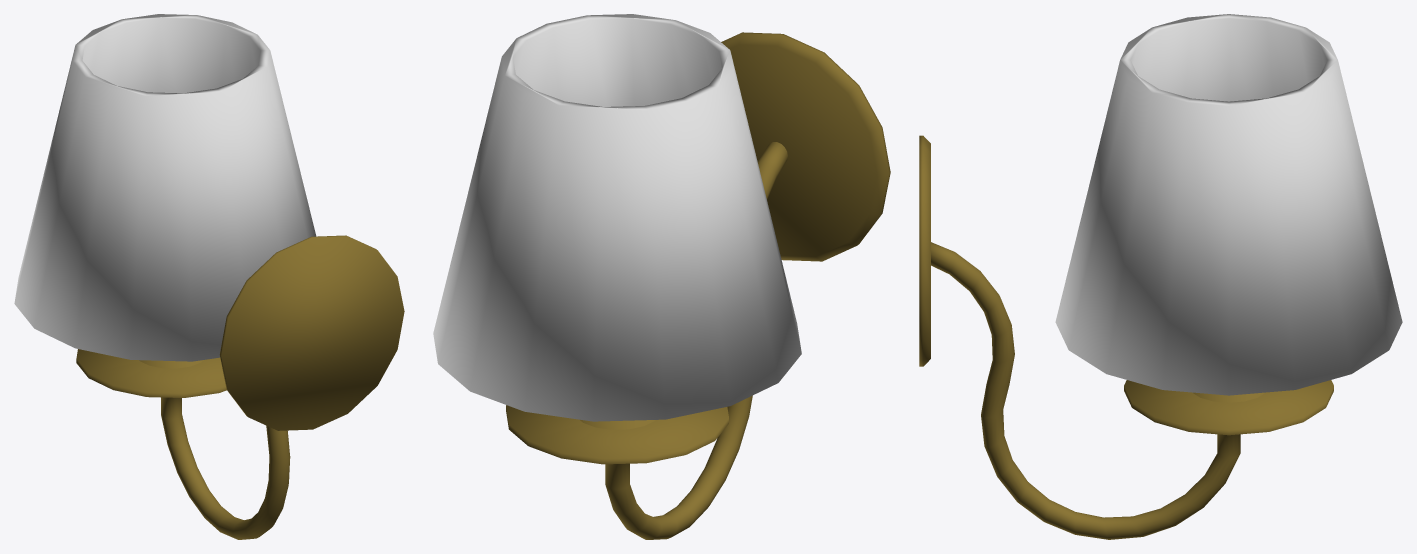
The model's file is L2_F1_WallLamp.fbx.
3 renders of one model, left to right at view 1: azimuth 30°, elevation 25°; view 2: azimuth 150°, elevation 25°; view 3: azimuth 270°, elevation 25°, orthographic. The views are drawn at different scales.
Parts seen in each view (by area): view 1: L2_F1_WallLamp; view 2: L2_F1_WallLamp; view 3: L2_F1_WallLamp.
Part boxes in pixels (x1,y1,x2,y2): L2_F1_WallLamp: (14, 14, 404, 539); L2_F1_WallLamp: (433, 14, 890, 539); L2_F1_WallLamp: (919, 14, 1402, 539).
Size of the model in its own units: 0.3 by 0.4566 by 0.4176.
